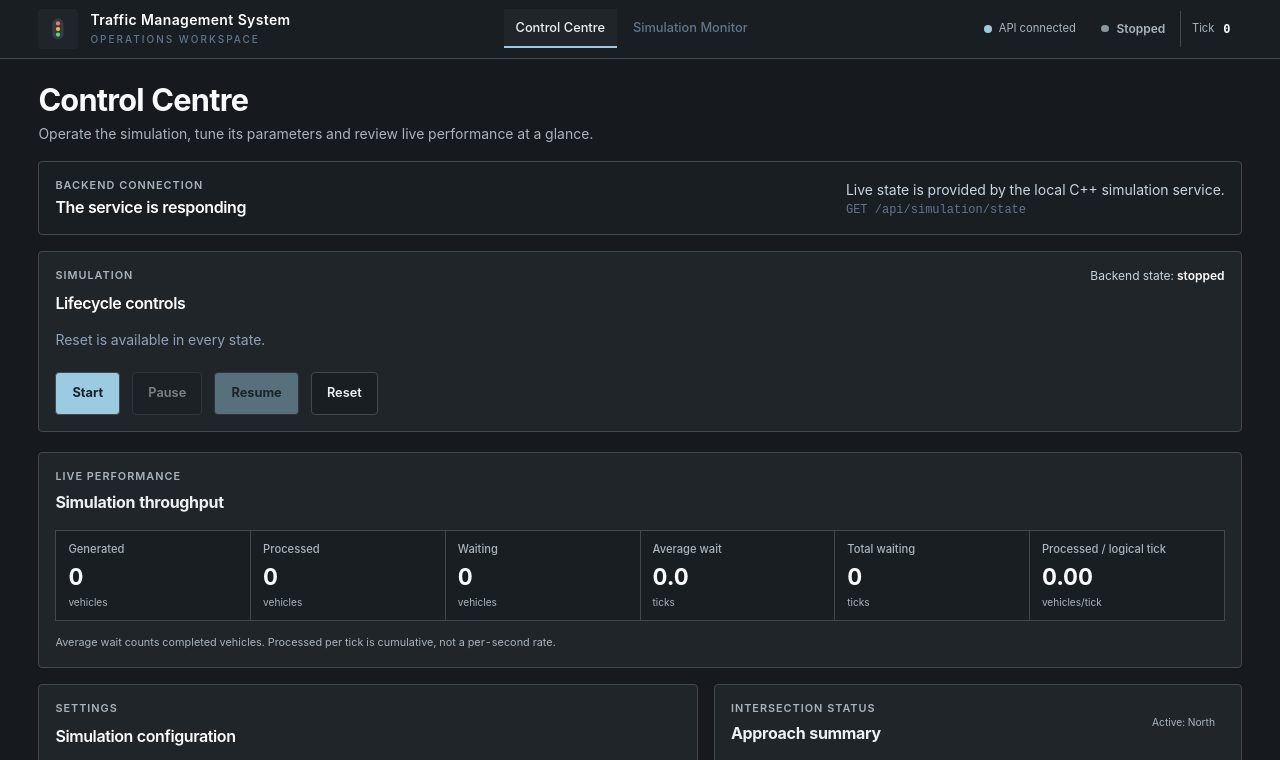
it: simulation controls and configuration › refreshes state on lifecycle conflict and displays the backend message
Expected: the heading "Lifecycle controls" is shown, [55,291,185,316]
Expected: the heading "Simulation configuration" is shown, [55,726,236,746]
What coordinates should you click on to do the following:
click the button "Start"
I would click on:
 (88, 394)
Its box is [55,372,120,415].
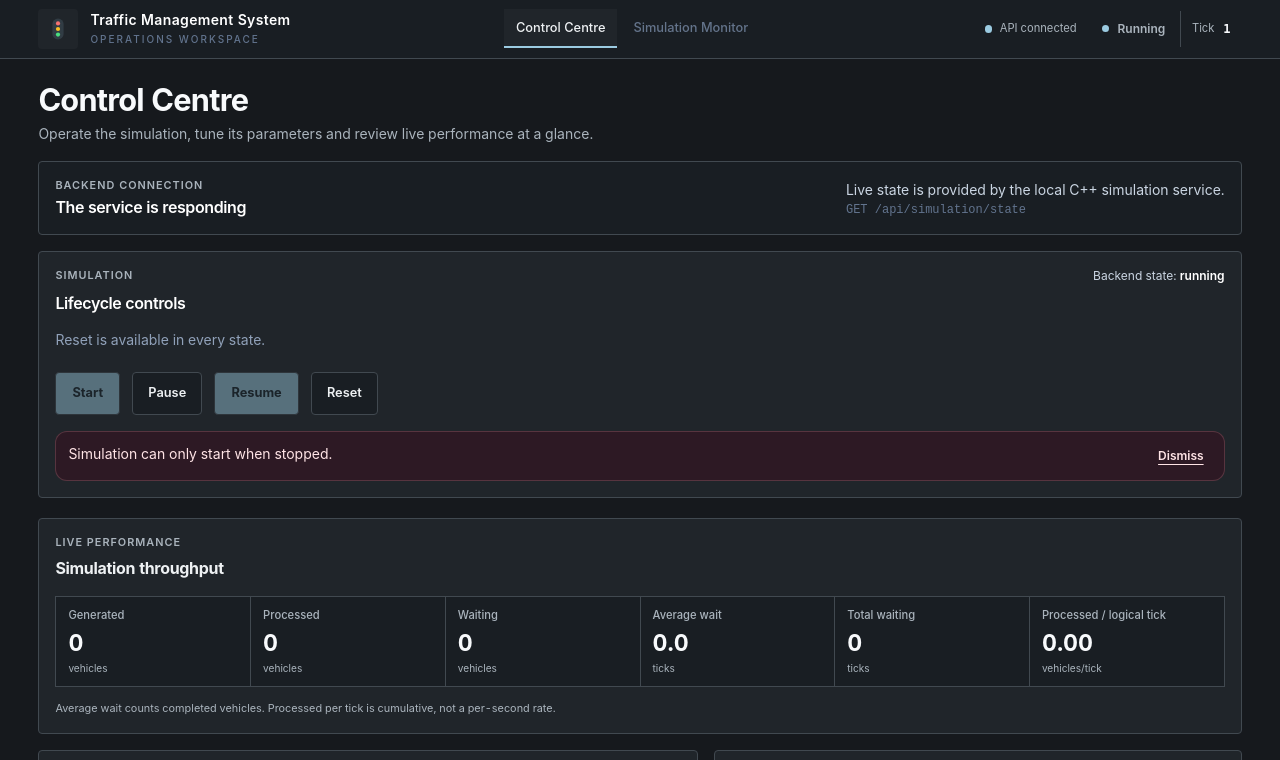
Result: the message "Simulation can only start when stopped." is shown at [68,445,332,462]
Result: the element "Lifecycle controls" shows "running" at [1180,268,1225,283]
